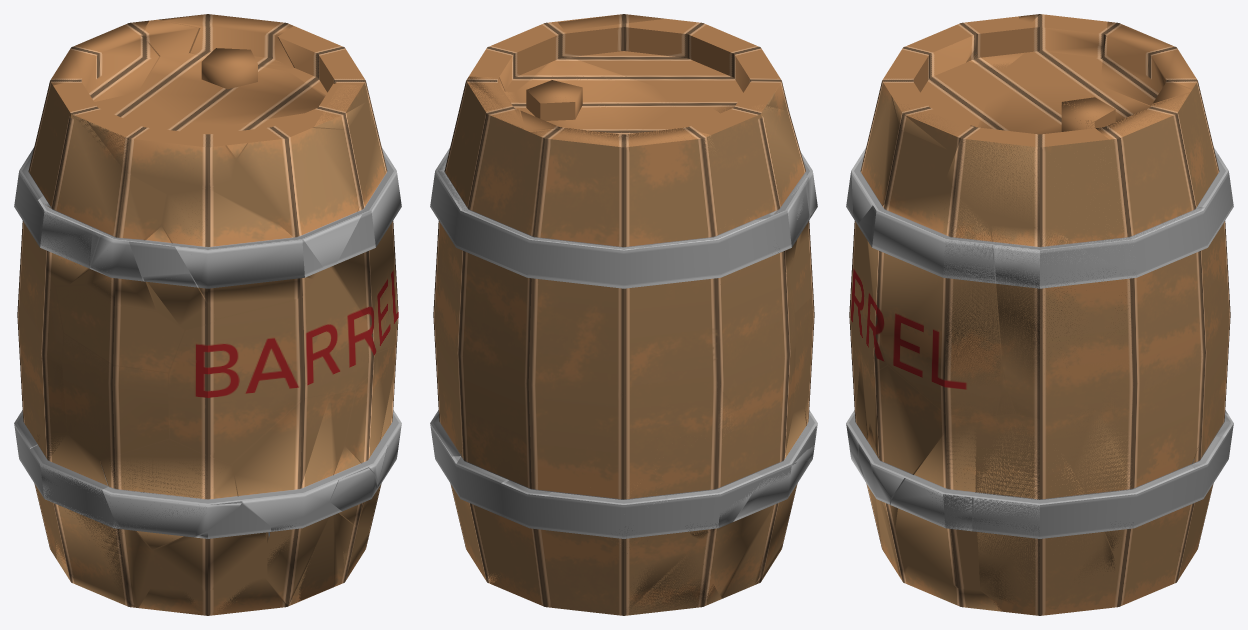
Rendered from Barrel.fbx.
3 views of the same model, side by side, from view 1: azimuth 30°, elevation 25°; view 2: azimuth 150°, elevation 25°; view 3: azimuth 270°, elevation 25° (orthographic).
Parts seen in each view (by area): view 1: Barrel, Barrel_cell.023, Barrel_cell.059, Barrel_cell.040, Barrel_cell.072, Barrel_cell.047, Barrel_cell.018, Barrel_cell.011, Barrel_cell.012, Barrel_cell.003, Barrel_cell.063, Barrel_cell.053 (+17 smaller); view 2: Barrel, Barrel_cell.012, Barrel_cell.047, Barrel_cell.024, Barrel_cell.003, Barrel_cell.027, Barrel_cell.057, Barrel_cell.009, Barrel_cell.063, Barrel_cell, Barrel_cell.010, Barrel_cell.028 (+2 smaller); view 3: Barrel, Barrel_cell.053, Barrel_cell.069, Barrel_cell.041, Barrel_cell.033, Barrel_cell.005, Barrel_cell.064, Barrel_cell.040, Barrel_cell.047, Barrel_cell.027, Barrel_cell.042, Barrel_cell.057 (+10 smaller).
Part boxes in pixels (x1,y1,x2,y2): Barrel: [14, 19, 401, 615]; Barrel_cell.023: [169, 299, 301, 463]; Barrel_cell.059: [162, 181, 317, 318]; Barrel_cell.040: [232, 104, 371, 268]; Barrel_cell.072: [100, 439, 241, 549]; Barrel_cell.047: [139, 20, 337, 125]; Barrel_cell.018: [62, 334, 168, 457]; Barrel_cell.011: [233, 390, 354, 525]; Barrel_cell.012: [30, 434, 151, 606]; Barrel_cell.003: [43, 113, 166, 240]; Barrel_cell.063: [56, 285, 184, 372]; Barrel_cell.053: [330, 128, 401, 351]; Barrel: [430, 14, 817, 615]; Barrel_cell.012: [694, 407, 814, 598]; Barrel_cell.047: [516, 32, 673, 134]; Barrel_cell.024: [621, 549, 720, 615]; Barrel_cell.003: [712, 102, 806, 215]; Barrel_cell.027: [530, 127, 717, 250]; Barrel_cell.057: [435, 76, 523, 212]; Barrel_cell.009: [652, 387, 763, 540]; Barrel_cell.063: [789, 238, 813, 312]; Barrel_cell: [784, 182, 809, 276]; Barrel_cell.010: [526, 80, 582, 118]; Barrel_cell.028: [785, 275, 795, 432]; Barrel: [846, 14, 1233, 615]; Barrel_cell.053: [867, 180, 1001, 420]; Barrel_cell.069: [890, 419, 976, 586]; Barrel_cell.041: [991, 225, 1118, 419]; Barrel_cell.033: [973, 416, 1115, 608]; Barrel_cell.005: [946, 138, 1054, 227]; Barrel_cell.064: [870, 366, 945, 497]; Barrel_cell.040: [851, 81, 947, 223]; Barrel_cell.047: [970, 79, 1191, 134]; Barrel_cell.027: [1100, 21, 1217, 154]; Barrel_cell.042: [1062, 408, 1193, 550]; Barrel_cell.057: [1069, 93, 1204, 256].
Bounding box in the file's own units: 67.52 × 90 × 67.52.
